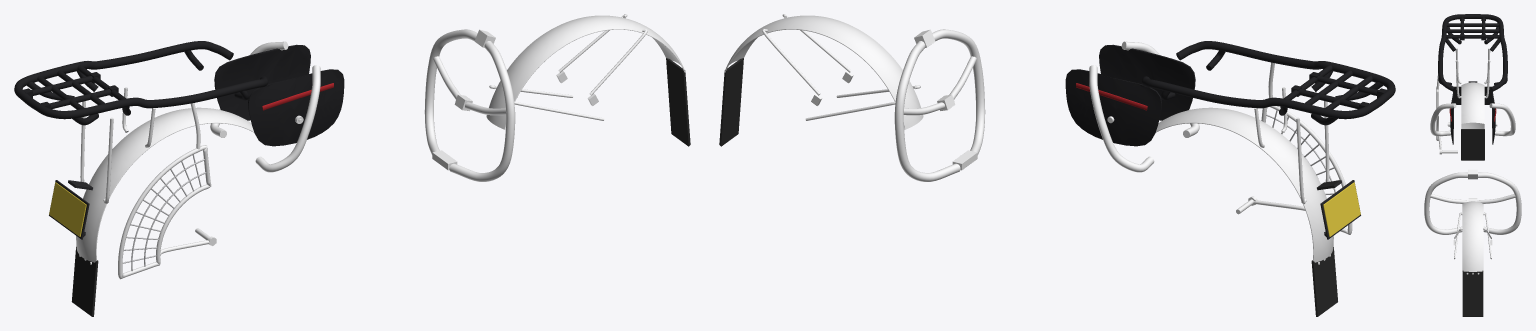
Rendered from bike_boda_boda__bodywork.glb.
3 views of the same model, side by side, from view 1: azimuth 30°, elevation 25°; view 2: azimuth 150°, elevation 25°; view 3: azimuth 270°, elevation 25° (orthographic). The views are drawn at different scales.
Visible parts, largest first — view 1: frame_body__carrier, frame_body__rear_mudguard, frame_body__side_panels__left, frame_body__crash_guard_front, frame_body__front_mudguard, frame_body__side_panels__right, frame_body__dress_guard__frame, frame_body__crash_guard_rear, frame_body__front_mudguard__mudflap, frame_body__rear_mudguard__mudflap, frame_body__front_mudguard__stays, frame_body__number_plate_bracket__plate (+3 smaller); view 2: frame_body__carrier, frame_body__rear_mudguard, frame_body__side_panels__right, frame_body__crash_guard_front, frame_body__front_mudguard, frame_body__side_panels__left, frame_body__crash_guard_rear, frame_body__front_mudguard__mudflap, frame_body__rear_mudguard__mudflap, frame_body__front_mudguard__stays, frame_body__number_plate_bracket__plate, frame_body__dress_guard__frame (+2 smaller); view 3: frame_body__carrier, frame_body__crash_guard_front, frame_body__front_mudguard, frame_body__rear_mudguard, frame_body__front_mudguard__mudflap, frame_body__rear_mudguard__mudflap, frame_body__crash_guard_rear, frame_body__rear_mudguard__stays, frame_body__front_mudguard__stays, frame_body__number_plate_bracket, frame_body__dress_guard__frame, frame_body__side_panels__left (+1 smaller).
Boxes of the visible parts, x1,y1,x2,y2 form: frame_body__carrier: (14, 41, 268, 125); frame_body__rear_mudguard: (76, 107, 254, 262); frame_body__side_panels__left: (248, 69, 344, 146); frame_body__crash_guard_front: (424, 29, 515, 181); frame_body__front_mudguard: (486, 15, 685, 129); frame_body__side_panels__right: (214, 44, 310, 120); frame_body__dress_guard__frame: (118, 103, 216, 279); frame_body__crash_guard_rear: (210, 41, 320, 172); frame_body__front_mudguard__mudflap: (666, 58, 690, 146); frame_body__rear_mudguard__mudflap: (71, 246, 98, 316); frame_body__front_mudguard__stays: (489, 14, 647, 120); frame_body__number_plate_bracket__plate: (49, 182, 86, 236); frame_body__carrier: (1141, 41, 1395, 125); frame_body__rear_mudguard: (1155, 107, 1333, 262); frame_body__side_panels__right: (1065, 69, 1161, 146); frame_body__crash_guard_front: (894, 29, 985, 181); frame_body__front_mudguard: (724, 15, 923, 129); frame_body__side_panels__left: (1099, 44, 1195, 120); frame_body__crash_guard_rear: (1089, 41, 1199, 172); frame_body__front_mudguard__mudflap: (719, 58, 743, 146); frame_body__rear_mudguard__mudflap: (1311, 247, 1337, 316); frame_body__front_mudguard__stays: (762, 14, 920, 120); frame_body__number_plate_bracket__plate: (1323, 182, 1360, 236); frame_body__dress_guard__frame: (1236, 62, 1352, 234); frame_body__carrier: (1438, 14, 1507, 91); frame_body__crash_guard_front: (1424, 169, 1521, 234); frame_body__front_mudguard: (1462, 201, 1483, 271); frame_body__rear_mudguard: (1461, 82, 1484, 128); frame_body__front_mudguard__mudflap: (1462, 270, 1483, 316); frame_body__rear_mudguard__mudflap: (1461, 129, 1484, 160); frame_body__crash_guard_rear: (1430, 103, 1515, 136); frame_body__rear_mudguard__stays: (1455, 48, 1490, 98); frame_body__front_mudguard__stays: (1453, 212, 1492, 259); frame_body__number_plate_bracket: (1453, 81, 1492, 104); frame_body__dress_guard__frame: (1436, 73, 1457, 154); frame_body__side_panels__left: (1450, 91, 1453, 144).
Bounding box in the file's own units: 208 × 68.03 × 45.79.
